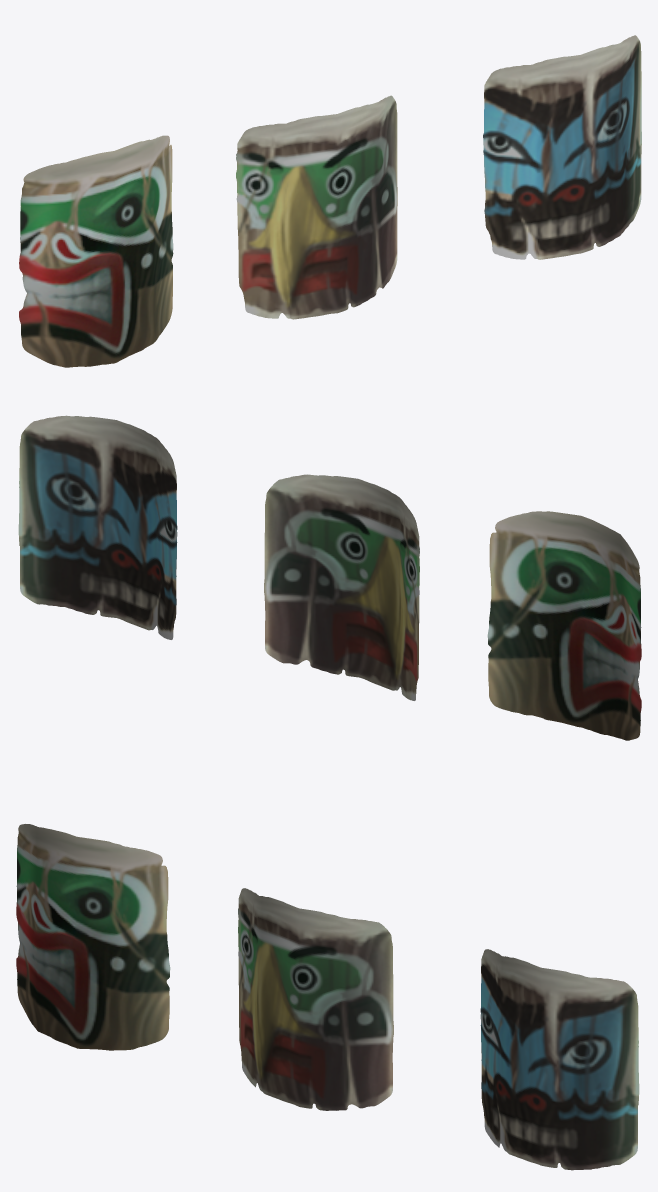
Rendered from Totem.FBX.
3 renders of one model, top to bottom at view 1: azimuth 30°, elevation 25°; view 2: azimuth 150°, elevation 25°; view 3: azimuth 330°, elevation 25°, orthographic.
Parts seen in each view (by area): view 1: Totem 2, Totem 1, Totem 3; view 2: Totem 1, Totem 3, Totem 2; view 3: Totem 1, Totem 3, Totem 2.
Boxes of the visible parts, x1,y1,x2,y2 form: Totem 2: (236, 95, 397, 319); Totem 1: (19, 135, 173, 367); Totem 3: (483, 35, 641, 259); Totem 1: (487, 511, 641, 740); Totem 3: (18, 415, 177, 639); Totem 2: (264, 474, 419, 700); Totem 1: (16, 824, 170, 1050); Totem 3: (480, 949, 639, 1170); Totem 2: (238, 888, 393, 1110).
Bounding box in the file's own units: 551 × 32.28 × 200.
